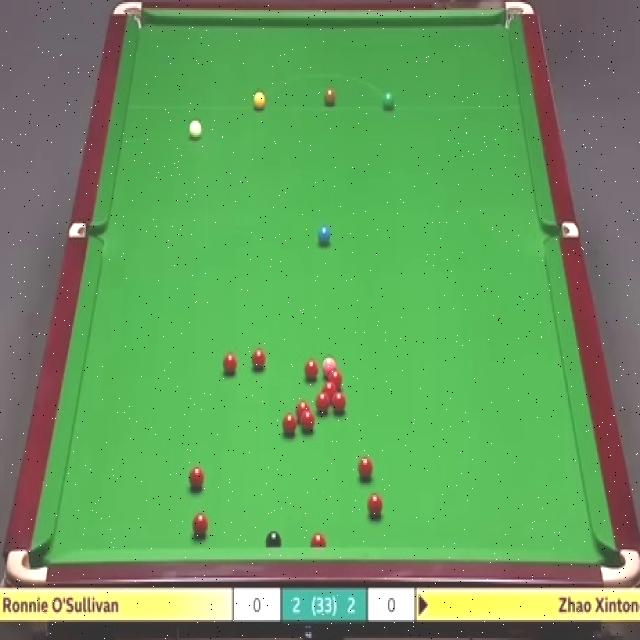black-ball: (265, 530, 281, 549)
blue-ball: (318, 225, 330, 248)
brown-ball: (325, 90, 336, 108)
green-ball: (382, 91, 398, 110)
pink-ball: (321, 354, 337, 372)
red-ball: (192, 512, 209, 540), (280, 411, 298, 437), (367, 491, 384, 517), (188, 464, 204, 490), (221, 351, 237, 376), (358, 457, 373, 483), (300, 410, 316, 433), (251, 348, 267, 370), (310, 530, 327, 549), (315, 393, 330, 414), (332, 393, 347, 413), (304, 358, 318, 379), (327, 371, 343, 386), (295, 400, 311, 414), (323, 381, 337, 394)
white-ball: (187, 118, 202, 141)
yellow-ball: (253, 89, 266, 109)
